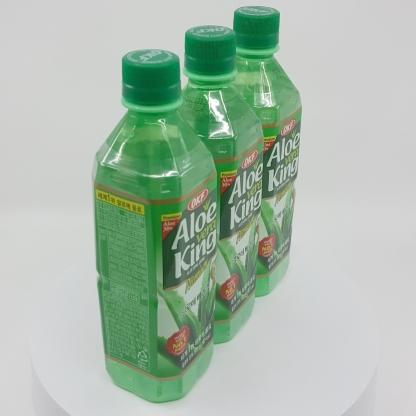------------500ml: (92, 49, 217, 403), (168, 25, 264, 345), (222, 5, 302, 296)
